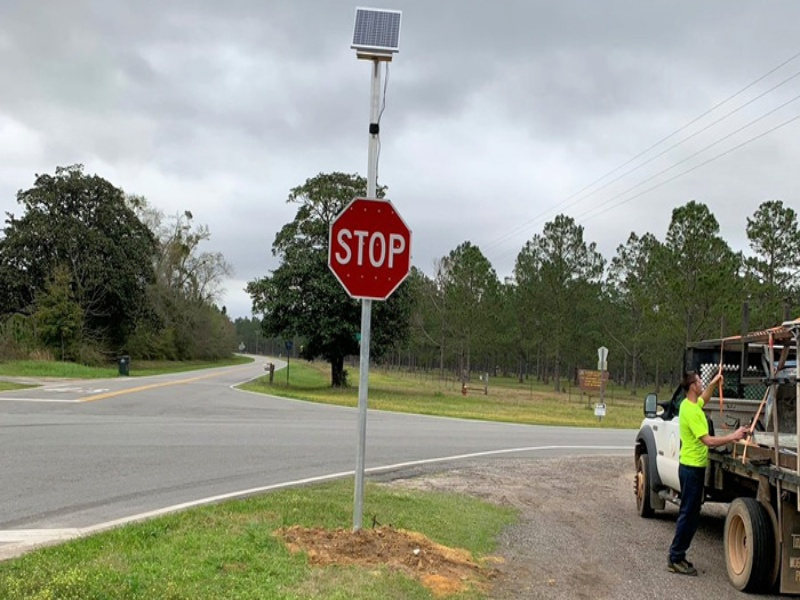stop sign: (326, 195, 415, 305)
